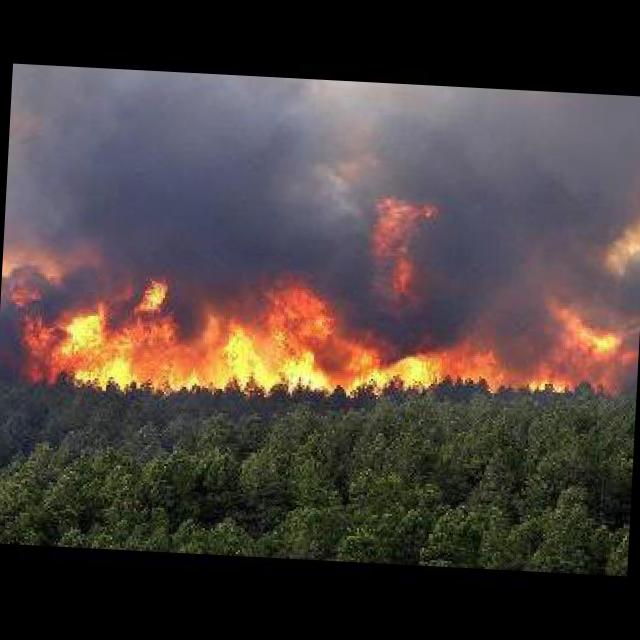Fire: (10, 260, 522, 412), (532, 289, 628, 400), (366, 183, 444, 314)
Smoke: (2, 68, 372, 302), (409, 81, 640, 293)
